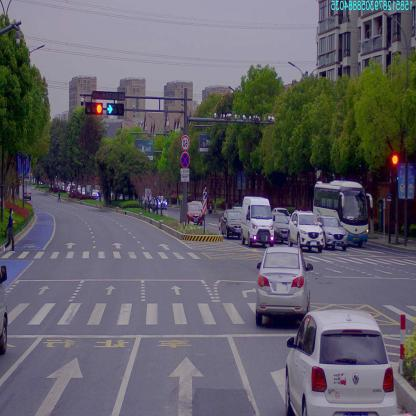traffic-light: (82, 102, 104, 115), (108, 102, 124, 117)
